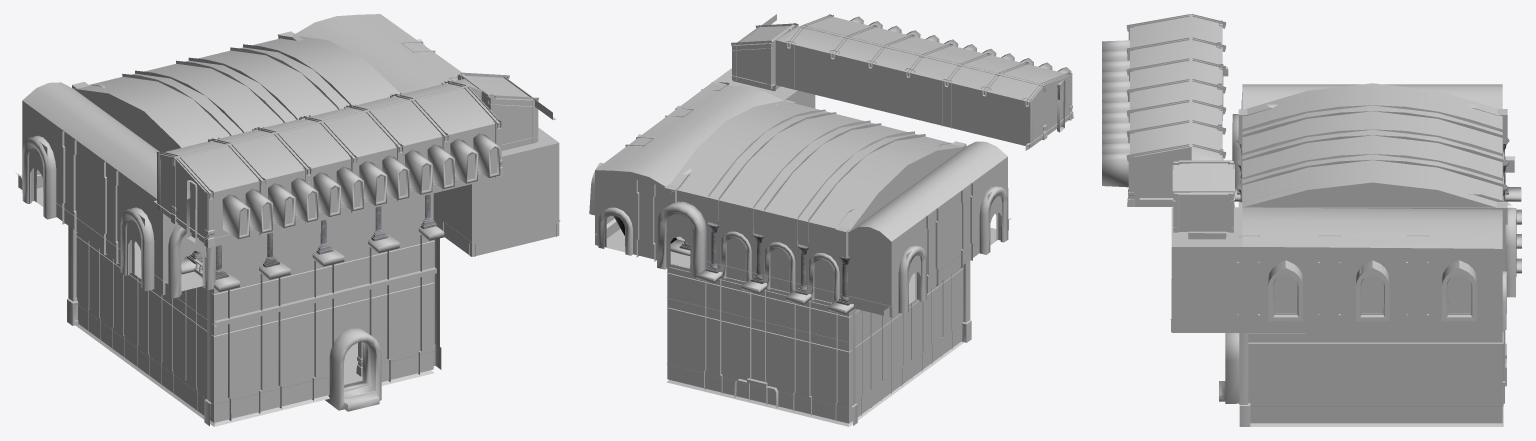
File: THRON_BASE.FBX
The picture shows the model from 3 angles, left to right: view 1: azimuth 30°, elevation 25°; view 2: azimuth 150°, elevation 25°; view 3: azimuth 270°, elevation 25°; orthographic projection. The views are drawn at different scales.
Visible parts, largest first — view 1: Thron_Room_Front_Wall_f1, Barracks, Thron_Room_Selling, Thron__Gallery_Left, Thron_Gallery_Right, Thron_Room_Left_Wall_f1, Thron_Room_Front_Wall_f2, Door_Ark_000, Barracks_Pass, Wooden _Bordur_barak, Door_Ark_Long_05, Door_Ark_Long_04 (+28 smaller); view 2: Barracks, Thron_Room_Selling, Thron_Room_Back_Wall_f1, Thron__Gallery_Left, Thron_Gallery_Right, Thron_Room_Left_Wall_f1, Thron_Room_Back_Wall_f2, Door_Ark_Long_000, Barracks_Pass, Door_Ark_Long_04, Door_Ark_Long_05, Plinth_A_02 (+16 smaller); view 3: Thron_Gallery_Right, Thron_Room_Selling, Thron_Room_Right_Wall_f1, Barracks, Barracks_Pass, Thron__Gallery_Left, Window_A_09, Window_A_00, Window_A_08, Arc_Long_01, Arc_Long_02, Arc_Long_00 (+10 smaller).
Boxes of the visible parts, left/top/right/bottom form: Thron_Room_Front_Wall_f1: left=214, top=233, right=433, bottom=422; Barracks: left=159, top=79, right=499, bottom=241; Thron_Room_Selling: left=74, top=36, right=400, bottom=147; Thron__Gallery_Left: left=22, top=82, right=202, bottom=295; Thron_Gallery_Right: left=296, top=14, right=559, bottom=256; Thron_Room_Left_Wall_f1: left=76, top=233, right=213, bottom=422; Thron_Room_Front_Wall_f2: left=215, top=193, right=433, bottom=277; Door_Ark_000: left=325, top=328, right=381, bottom=411; Barracks_Pass: left=459, top=74, right=536, bottom=149; Wooden _Bordur_barak: left=154, top=72, right=555, bottom=248; Door_Ark_Long_05: left=22, top=135, right=56, bottom=219; Door_Ark_Long_04: left=120, top=207, right=154, bottom=291; Barracks: left=775, top=16, right=1071, bottom=147; Thron_Room_Selling: left=670, top=100, right=964, bottom=231; Thron_Room_Back_Wall_f1: left=667, top=264, right=848, bottom=423; Thron__Gallery_Left: left=849, top=141, right=1007, bottom=317; Thron_Gallery_Right: left=595, top=68, right=815, bottom=259; Thron_Room_Left_Wall_f1: left=849, top=265, right=963, bottom=423; Thron_Room_Back_Wall_f2: left=667, top=190, right=848, bottom=302; Door_Ark_Long_000: left=657, top=201, right=706, bottom=277; Barracks_Pass: left=733, top=25, right=797, bottom=89; Door_Ark_Long_04: left=979, top=185, right=1008, bottom=254; Door_Ark_Long_05: left=898, top=245, right=926, bottom=314; Plinth_A_02: left=666, top=341, right=964, bottom=426; Thron_Gallery_Right: left=1171, top=182, right=1502, bottom=332; Thron_Room_Selling: left=1242, top=83, right=1502, bottom=207; Thron_Room_Right_Wall_f1: left=1248, top=332, right=1502, bottom=423; Barracks: left=1130, top=14, right=1222, bottom=204; Barracks_Pass: left=1173, top=161, right=1233, bottom=231; Thron__Gallery_Left: left=1241, top=84, right=1502, bottom=109; Window_A_09: left=1442, top=260, right=1476, bottom=321; Window_A_00: left=1268, top=260, right=1302, bottom=321; Window_A_08: left=1356, top=260, right=1389, bottom=321; Arc_Long_01: left=1240, top=129, right=1503, bottom=177; Arc_Long_02: left=1240, top=105, right=1503, bottom=153; Arc_Long_00: left=1240, top=154, right=1503, bottom=201.
Size of the model in its own units: 4022 by 3009 by 3967.
